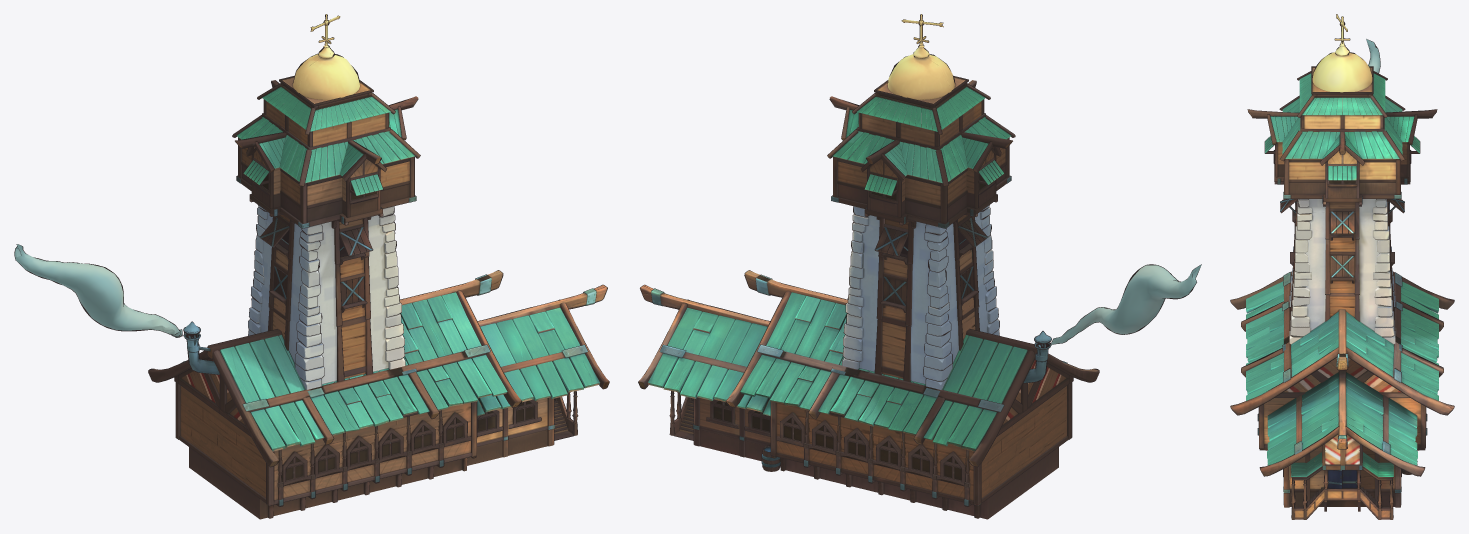
File: viking-house.glb
3 views of the same model, side by side, from view 1: azimuth 30°, elevation 25°; view 2: azimuth 150°, elevation 25°; view 3: azimuth 270°, elevation 25° (orthographic). The views are drawn at different scales.
Visible parts, largest first — view 1: Object_3, Object_2; view 2: Object_3, Object_2; view 3: Object_3, Object_2.
Part boxes in pixels (bbox=[...]): Object_3: bbox=[14, 14, 609, 519]; Object_2: bbox=[14, 14, 609, 517]; Object_3: bbox=[639, 14, 1201, 519]; Object_2: bbox=[638, 14, 1201, 517]; Object_3: bbox=[1231, 14, 1453, 519]; Object_2: bbox=[1230, 14, 1454, 518].
Bounding box in the file's own units: 42.3 × 32.06 × 16.03.
2 materials, 1 textured.
